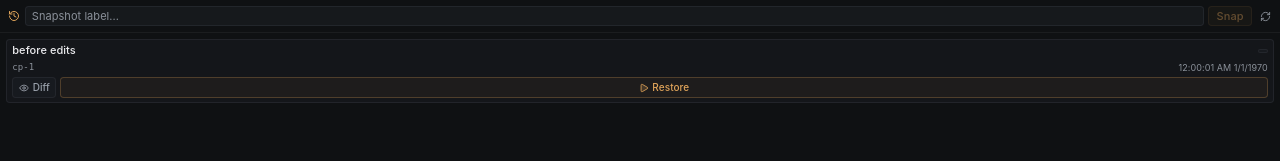
Scenario: CheckpointsPane diff freshness › refreshes an open diff after the repo changes
Expected: the text "before edits" is shown, 12,43 -> 76,57
Step 1. Click the button titled "View diff" → (34, 88), box 12,77 -> 56,98
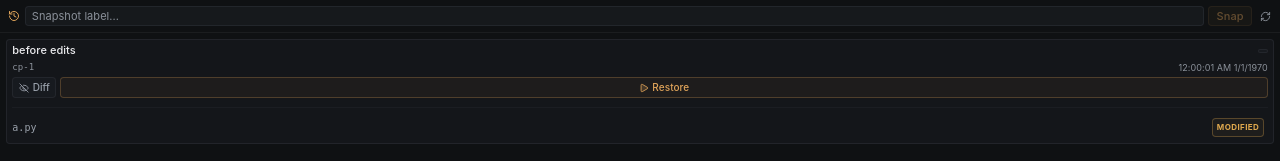
Now the text "a.py" is shown, box 12,120 -> 37,135
